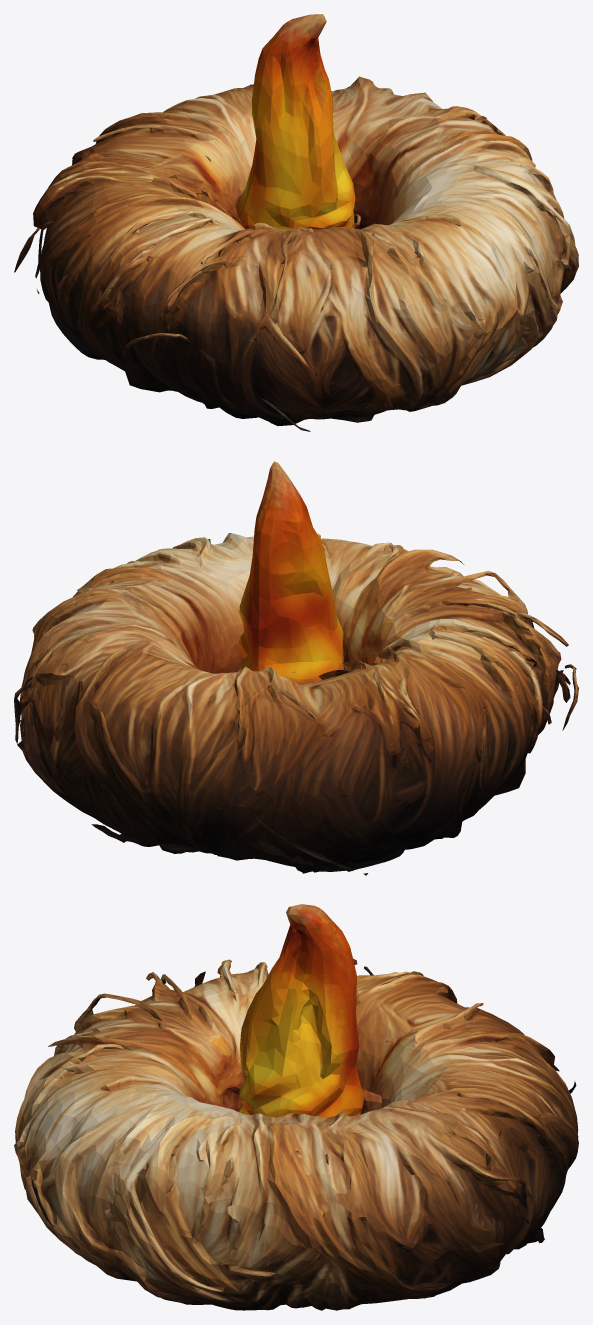
Rendered from palm-fiber-fire-starter-rustic.jpeg.glb.
3 views of the same model, one above another, from view 1: azimuth 30°, elevation 25°; view 2: azimuth 150°, elevation 25°; view 3: azimuth 270°, elevation 25° (orthographic). The views are drawn at different scales.
Parts seen in each view (by area): view 1: world; view 2: world; view 3: world.
Part boxes in pixels (x1,y1,x2,y2): world: (14,14,578,431); world: (14,461,578,875); world: (14,904,578,1310).
Size of the model in its own units: 0.9827 by 0.6213 by 0.9528.
Materials: 1 (1 with a texture image).
